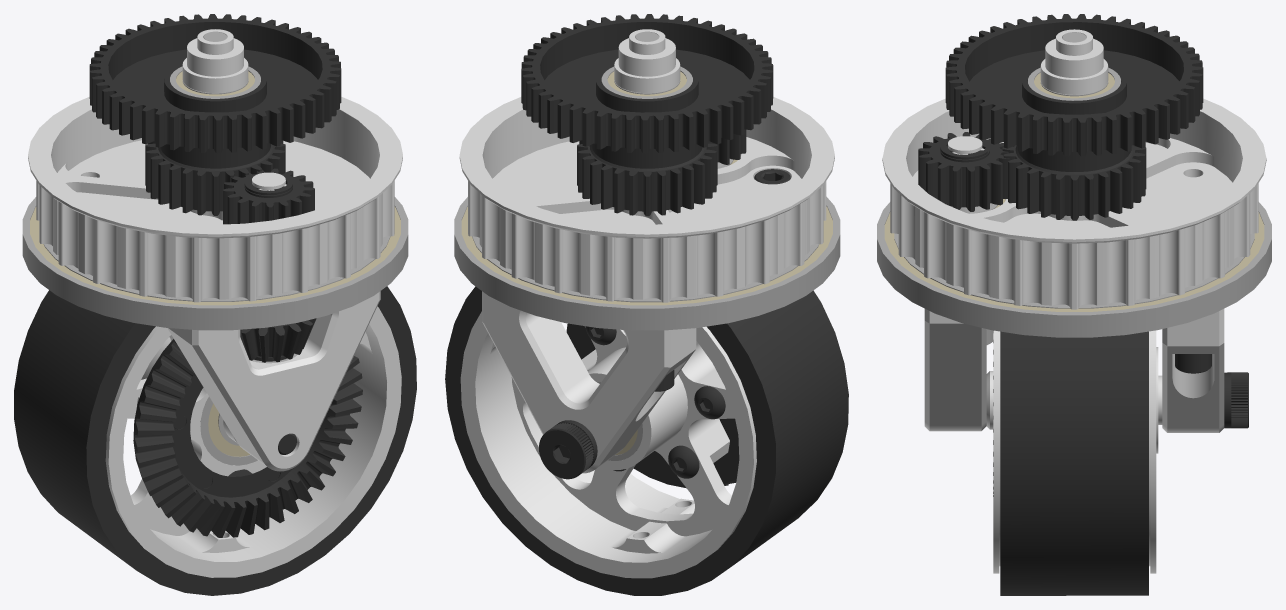
The picture shows the model from 3 angles, left to right: view 1: azimuth 30°, elevation 25°; view 2: azimuth 150°, elevation 25°; view 3: azimuth 270°, elevation 25°; orthographic projection. The views are drawn at different scales.
Visible parts, largest first — view 1: MK3 Base Pulley V3, Double Gear, 20DP, 27T, 50T, Tread, Black Nitrile 4in X 1.5in, Wheel, SDS, Nitrile Tread, 4in X 1.5in, Bearing Bore, Bevel Gear, 4515, Wheel Mount B Gen2, 3.5" ID X-Contact Bearing (4" OD, 0.25" WD, Shielded), MK3 Center Column, Gear, 17T, 20DP, .375Hex, Bevel Gear, 1545, 0.500" ID Bearing (1.125" OD, 0.313" WD, Shielded), 15mm ID Bearing (24mm OD, 5mm WD, Shielded) (+1 smaller); view 2: MK3 Base Pulley V3, Wheel, SDS, Nitrile Tread, 4in X 1.5in, Bearing Bore, Double Gear, 20DP, 27T, 50T, Tread, Black Nitrile 4in X 1.5in, Wheel Mount A, 3.5" ID X-Contact Bearing (4" OD, 0.25" WD, Shielded), MK3 Center Column, Screw, Shoulder, .375 X 2.5, 5_16-18, 91259A634_91259A634, Bevel Gear, 4515, #10-32 x 0.75" L BHCS (Steel, Black Oxide) (×2), 15mm ID Bearing (24mm OD, 5mm WD, Shielded), Gear, 17T, 20DP, .375Hex; view 3: MK3 Base Pulley V3, Tread, Black Nitrile 4in X 1.5in, Double Gear, 20DP, 27T, 50T, 3.5" ID X-Contact Bearing (4" OD, 0.25" WD, Shielded), Wheel Mount B Gen2, Wheel Mount A, Gear, 17T, 20DP, .375Hex, Wheel, SDS, Nitrile Tread, 4in X 1.5in, Bearing Bore, MK3 Center Column, Screw, Shoulder, .375 X 2.5, 5_16-18, 91259A634_91259A634, 15mm ID Bearing (24mm OD, 5mm WD, Shielded), MK4 Intermediate Shaft V3 (+1 smaller).
Boxes of the visible parts, x1,y1,x2,y2 form: MK3 Base Pulley V3: (28, 97, 402, 302); Double Gear, 20DP, 27T, 50T: (89, 14, 341, 215); Tread, Black Nitrile 4in X 1.5in: (14, 286, 416, 595); Wheel, SDS, Nitrile Tread, 4in X 1.5in, Bearing Bore: (105, 306, 401, 577); Bevel Gear, 4515: (133, 339, 362, 537); Wheel Mount B Gen2: (167, 291, 380, 471); 3.5" ID X-Contact Bearing (4" OD, 0.25" WD, Shielded): (22, 197, 408, 330); MK3 Center Column: (182, 29, 248, 92); Gear, 17T, 20DP, .375Hex: (223, 168, 314, 224); Bevel Gear, 1545: (240, 318, 316, 362); 0.500" ID Bearing (1.125" OD, 0.313" WD, Shielded): (200, 397, 257, 465); 15mm ID Bearing (24mm OD, 5mm WD, Shielded): (170, 66, 260, 98); MK3 Base Pulley V3: (459, 97, 834, 302); Wheel, SDS, Nitrile Tread, 4in X 1.5in, Bearing Bore: (460, 311, 756, 578); Double Gear, 20DP, 27T, 50T: (521, 14, 773, 216); Tread, Black Nitrile 4in X 1.5in: (445, 286, 848, 595); Wheel Mount A: (482, 291, 696, 473); 3.5" ID X-Contact Bearing (4" OD, 0.25" WD, Shielded): (454, 196, 840, 330); MK3 Center Column: (614, 29, 680, 92); Screw, Shoulder, .375 X 2.5, 5_16-18, 91259A634_91259A634: (539, 420, 597, 479); Bevel Gear, 4515: (566, 323, 739, 488); #10-32 x 0.75" L BHCS (Steel, Black Oxide) (×2): (668, 386, 725, 478); 15mm ID Bearing (24mm OD, 5mm WD, Shielded): (601, 66, 692, 98); Gear, 17T, 20DP, .375Hex: (715, 129, 746, 164); MK3 Base Pulley V3: (882, 98, 1266, 309); Tread, Black Nitrile 4in X 1.5in: (1000, 331, 1148, 595); Double Gear, 20DP, 27T, 50T: (945, 14, 1203, 220); 3.5" ID X-Contact Bearing (4" OD, 0.25" WD, Shielded): (877, 202, 1271, 337); Wheel Mount B Gen2: (924, 309, 986, 431); Wheel Mount A: (1158, 309, 1224, 432); Gear, 17T, 20DP, .375Hex: (918, 132, 1009, 211); Wheel, SDS, Nitrile Tread, 4in X 1.5in, Bearing Bore: (993, 330, 1158, 573); MK3 Center Column: (1040, 29, 1108, 94); Screw, Shoulder, .375 X 2.5, 5_16-18, 91259A634_91259A634: (1224, 372, 1248, 428); 15mm ID Bearing (24mm OD, 5mm WD, Shielded): (1028, 67, 1120, 100); MK4 Intermediate Shaft V3: (948, 136, 992, 212).
Bounding box in the file's own units: 0.1012 × 0.1528 × 0.1012.
